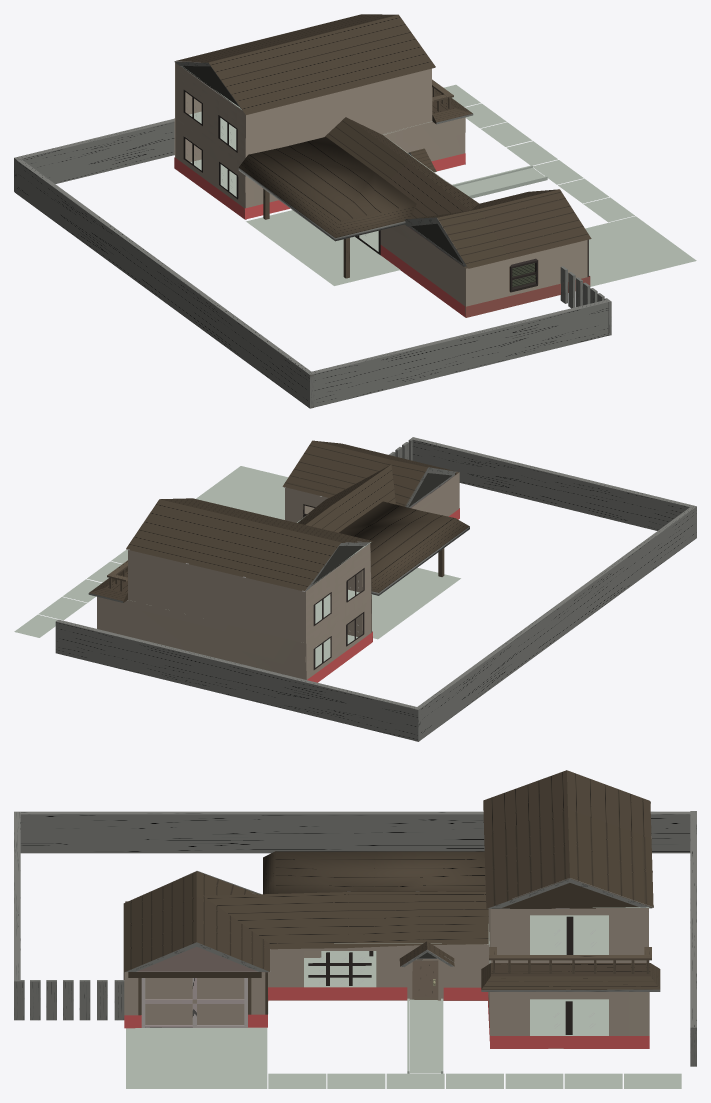
3 views of the same model, one above another, from view 1: azimuth 30°, elevation 25°; view 2: azimuth 150°, elevation 25°; view 3: azimuth 270°, elevation 25° (orthographic). The views are drawn at different scales.
Visible parts, largest first — view 1: Ceiling, Cube.014_Cube.040, HouseWall_Wall.006, BackyardRoof_Cube.001, Plane.011_Plane.026, Floor, Brick-Red_Plane.017, GarageWall_Wall, HouseWall.001_Wall.002, InteriorWood_Wood, Cube; view 2: Cube.014_Cube.040, Ceiling, HouseWall_Wall.006, BackyardRoof_Cube.001, Plane.011_Plane.026, Floor, HouseWall.001_Wall.002, GarageWall_Wall, Brick-Red_Plane.017, Cube; view 3: Ceiling, Cube.014_Cube.040, Plane.011_Plane.026, BackyardRoof_Cube.001, Floor, GarageWall_Wall, Brick-Red_Plane.017, Cube, Plane.004, Plane.003, Plane.007, HouseWall_Wall.006 (+3 smaller).
Part boxes in pixels (bbox=[...]): Ceiling: bbox=[174, 14, 591, 268]; Cube.014_Cube.040: bbox=[14, 118, 608, 408]; HouseWall_Wall.006: bbox=[174, 62, 465, 312]; BackyardRoof_Cube.001: bbox=[238, 137, 416, 278]; Plane.011_Plane.026: bbox=[444, 84, 696, 286]; Floor: bbox=[182, 66, 452, 285]; Brick-Red_Plane.017: bbox=[174, 153, 590, 317]; GarageWall_Wall: bbox=[408, 226, 588, 306]; HouseWall.001_Wall.002: bbox=[175, 119, 246, 219]; InteriorWood_Wood: bbox=[464, 240, 587, 317]; Cube: bbox=[432, 87, 473, 124]; Cube.014_Cube.040: bbox=[55, 437, 696, 741]; Ceiling: bbox=[126, 440, 457, 591]; HouseWall_Wall.006: bbox=[97, 472, 459, 679]; BackyardRoof_Cube.001: bbox=[339, 501, 469, 595]; Plane.011_Plane.026: bbox=[14, 466, 287, 637]; Floor: bbox=[297, 516, 460, 667]; HouseWall.001_Wall.002: bbox=[305, 599, 371, 679]; GarageWall_Wall: bbox=[285, 475, 454, 522]; Brick-Red_Plane.017: bbox=[307, 508, 459, 682]; Cube: bbox=[88, 567, 127, 602]; Ceiling: bbox=[123, 770, 653, 977]; Cube.014_Cube.040: bbox=[14, 811, 696, 1066]; Plane.011_Plane.026: bbox=[126, 998, 681, 1088]; BackyardRoof_Cube.001: bbox=[263, 851, 485, 894]; Floor: bbox=[268, 907, 649, 1048]; GarageWall_Wall: bbox=[124, 972, 265, 1027]; Brick-Red_Plane.017: bbox=[124, 987, 649, 1048]; Cube: bbox=[481, 963, 660, 991]; Plane.004: bbox=[490, 908, 648, 962]; Plane.003: bbox=[490, 992, 649, 1035]; Plane.007: bbox=[268, 945, 412, 1000]; HouseWall_Wall.006: bbox=[125, 901, 490, 1027].
Size of what is drawn, in the model's own units: 32.92 by 9.91 by 38.75.
